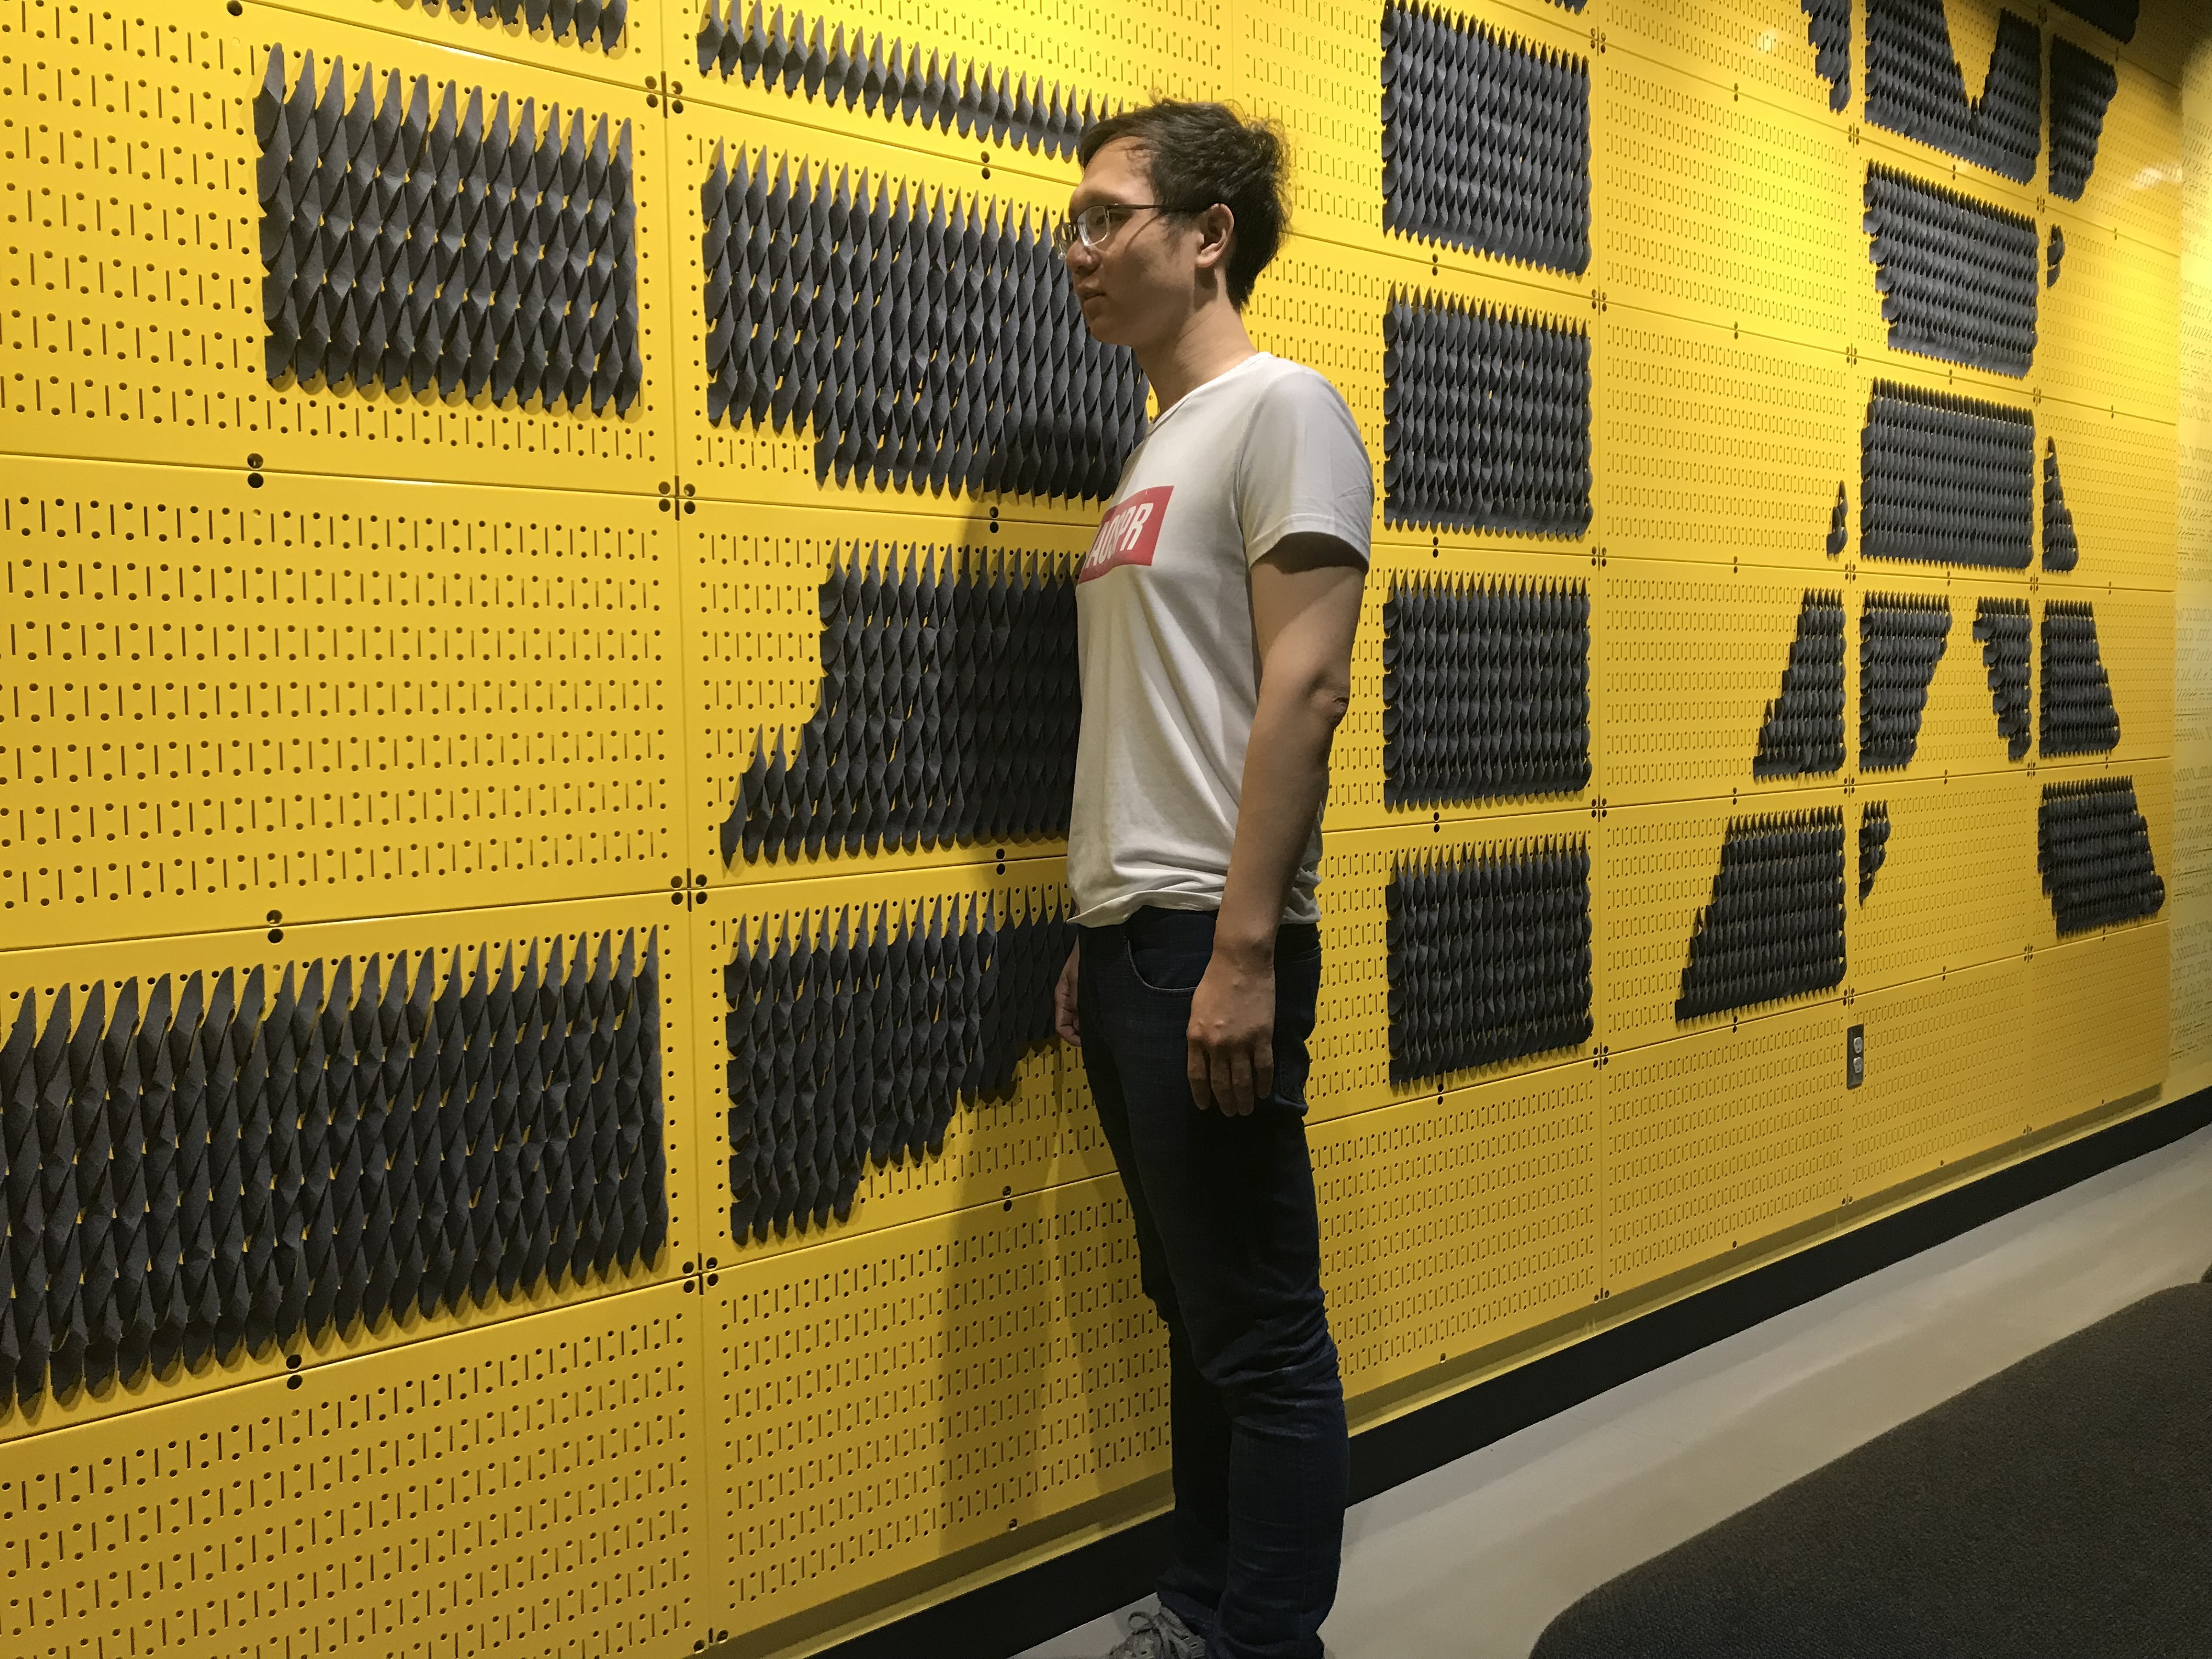attack_zone: (1101, 481, 1294, 863), (1831, 181, 1848, 197)
